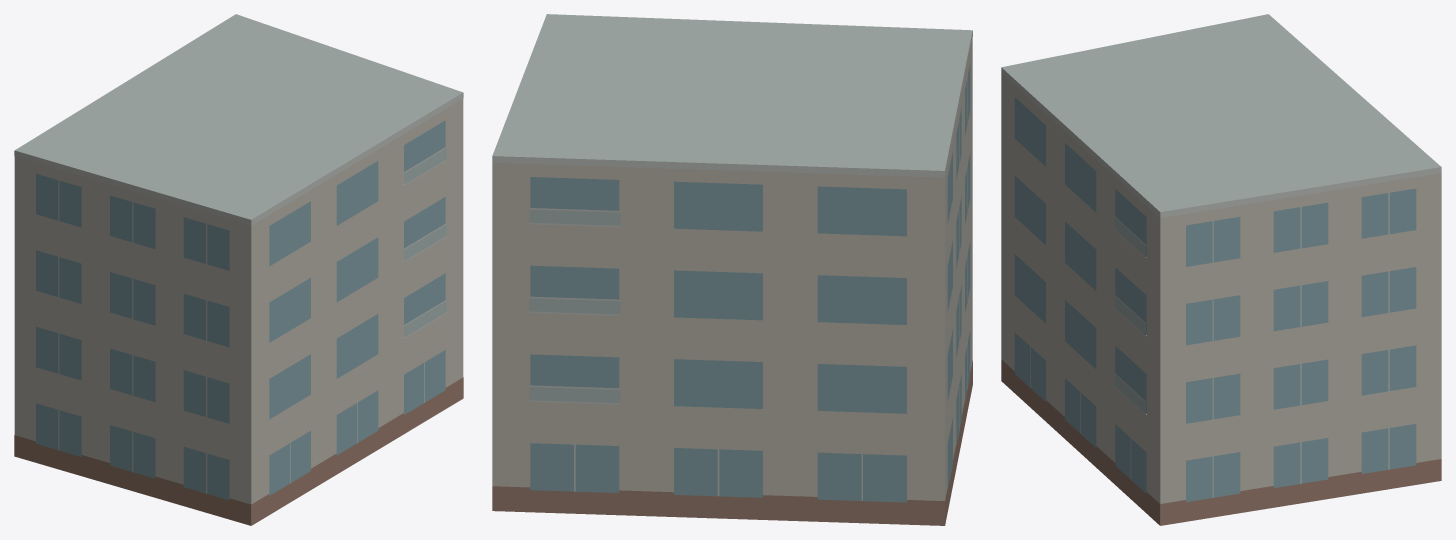
File: survey-upis-32981670.glb
3 views of the same model, side by side, from view 1: azimuth 30°, elevation 25°; view 2: azimuth 150°, elevation 25°; view 3: azimuth 270°, elevation 25° (orthographic). The views are drawn at different scales.
Parts seen in each view (by area): view 1: survey-upis-32981670.tmp; view 2: survey-upis-32981670.tmp; view 3: survey-upis-32981670.tmp.
Boxes of the visible parts, x1,y1,x2,y2 form: survey-upis-32981670.tmp: (14, 14, 463, 525); survey-upis-32981670.tmp: (492, 14, 972, 525); survey-upis-32981670.tmp: (1001, 14, 1441, 525).
Bounding box in the file's own units: 17.48 × 12.9 × 16.42.
